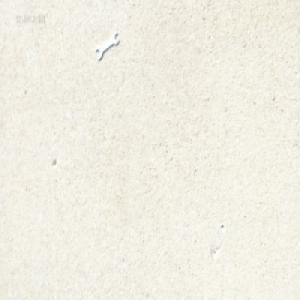Wrench: (95, 34, 118, 63)
